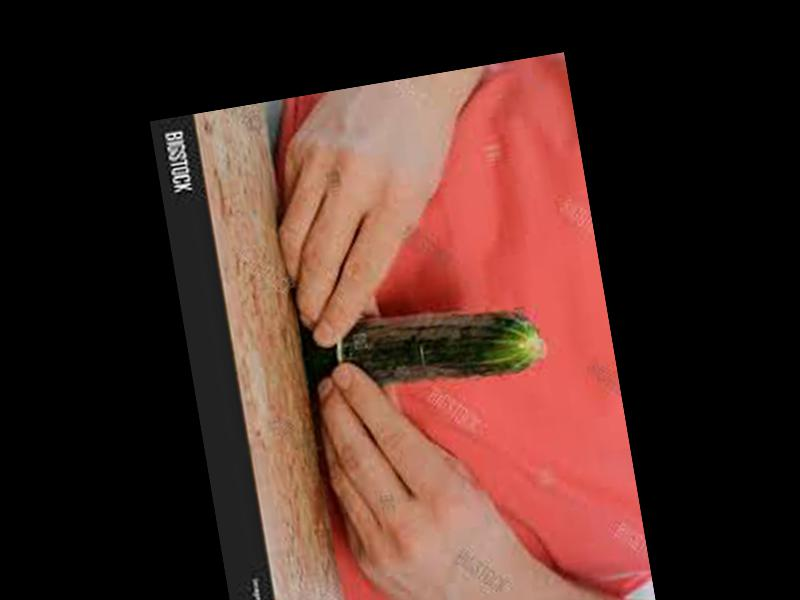Cucumber: (301, 291, 547, 407)
